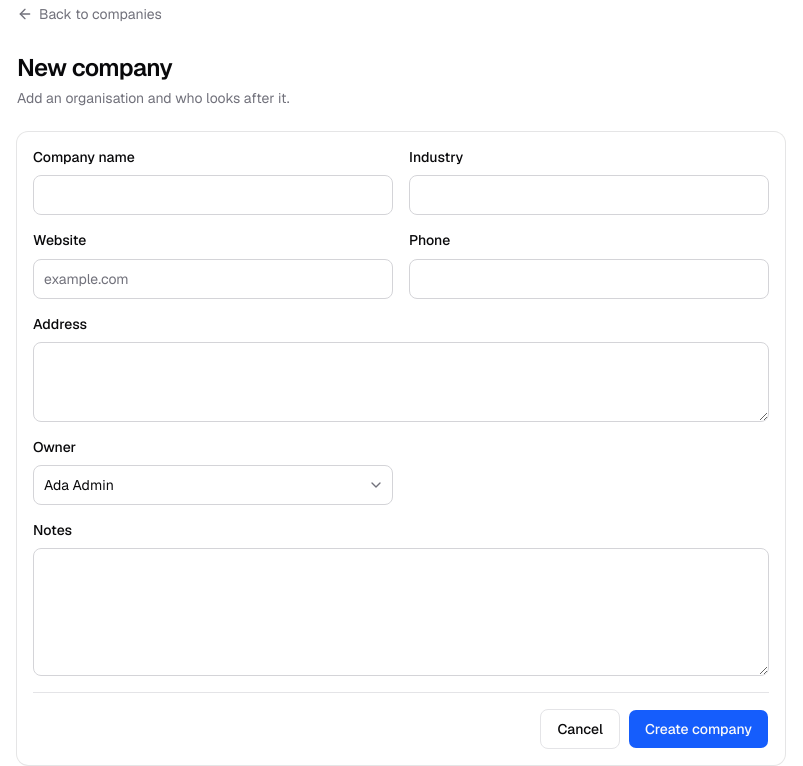
Test: NewCompanyPage › shows any other failure above the form
Type "Northwind" into the field labelled "Company name". click: (213,195)
box: [33,175,393,215]
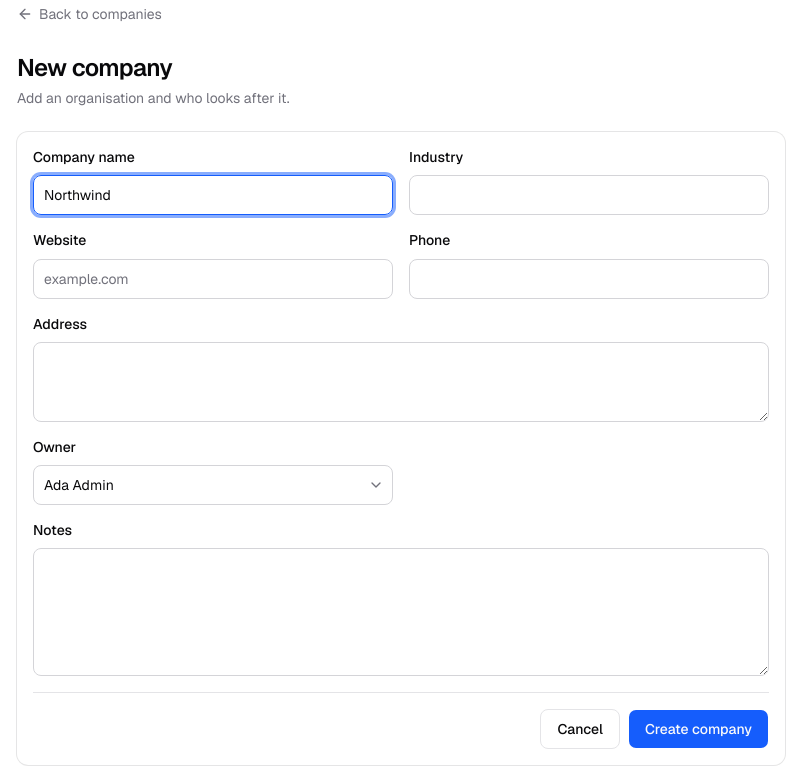
Click the button "Create company". click: (698,729)
box: [628,709,769,749]
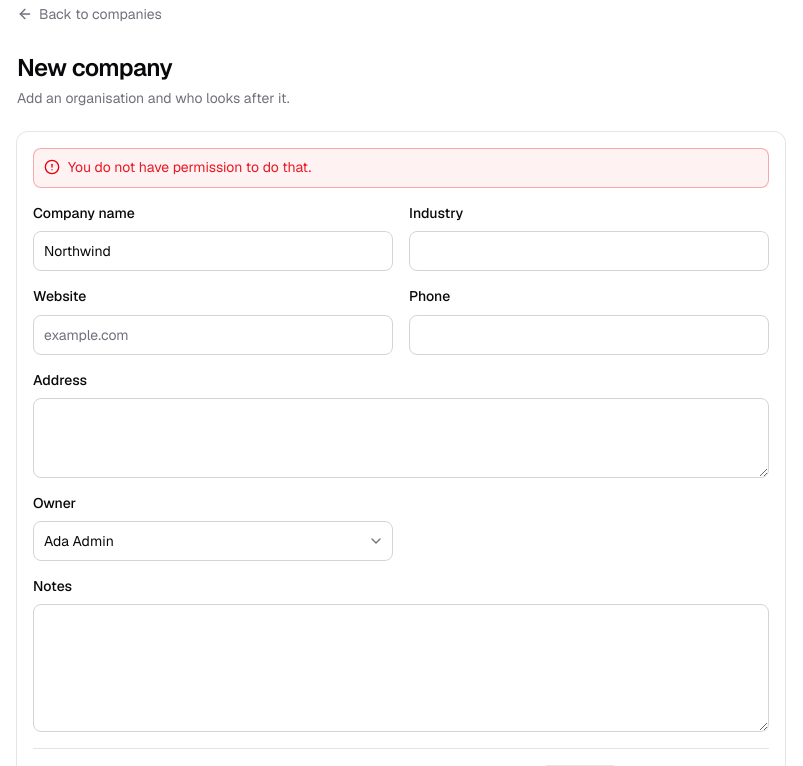
Expected: the text "You do not have permission to do that." is shown, [68,158,311,176]
